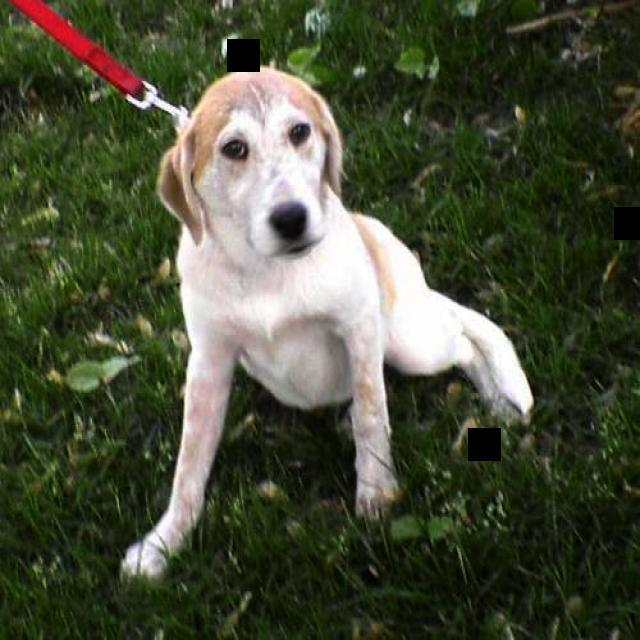adult_dog: (117, 65, 536, 587)
